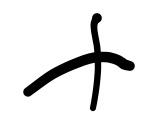plus: (24, 12, 135, 111)
